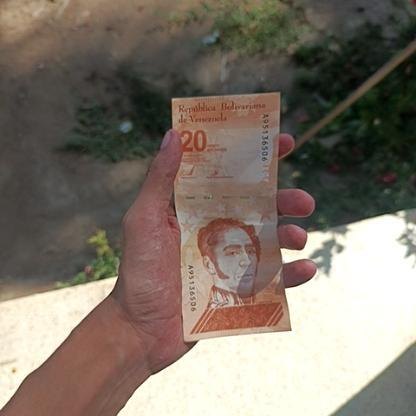twenty-front-vef: (169, 88, 292, 341)
